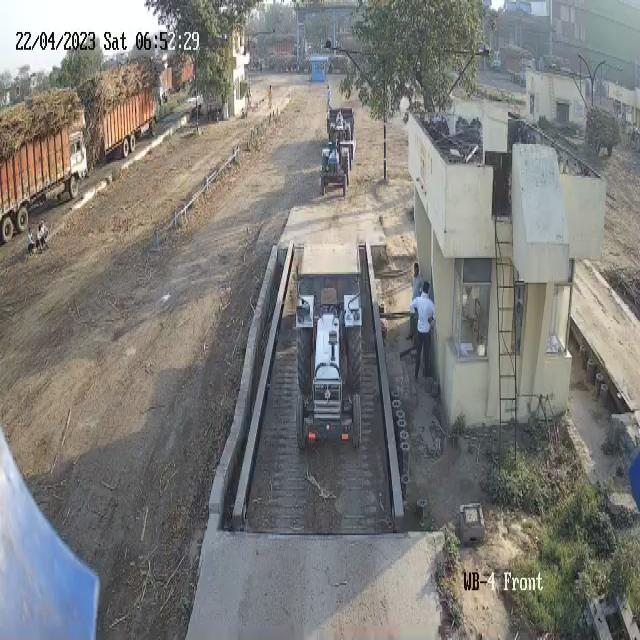Tratores - v5 YOLO V8L 2024-11-13: (289, 278, 366, 462), (318, 135, 350, 199)
